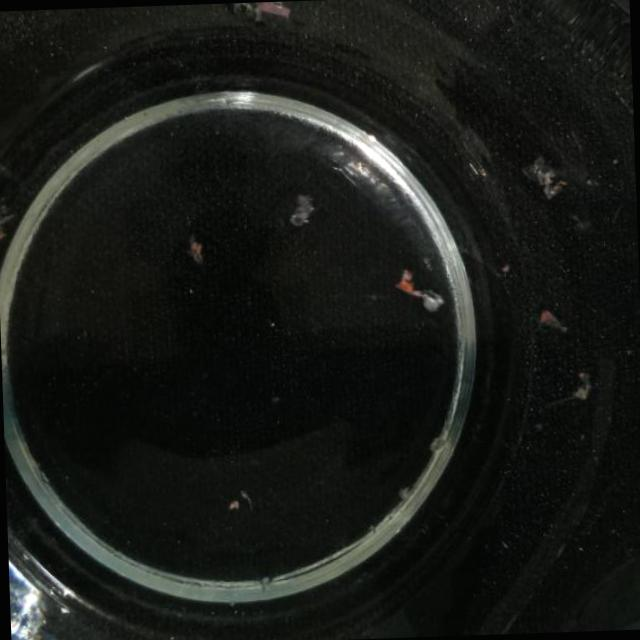fiber: (516, 152, 569, 205), (390, 266, 444, 314), (204, 1, 297, 26), (286, 190, 318, 232), (570, 368, 596, 405), (0, 190, 18, 243), (534, 308, 570, 334), (426, 427, 453, 458), (185, 230, 208, 264), (239, 492, 259, 518), (394, 484, 414, 502), (226, 498, 241, 512)
